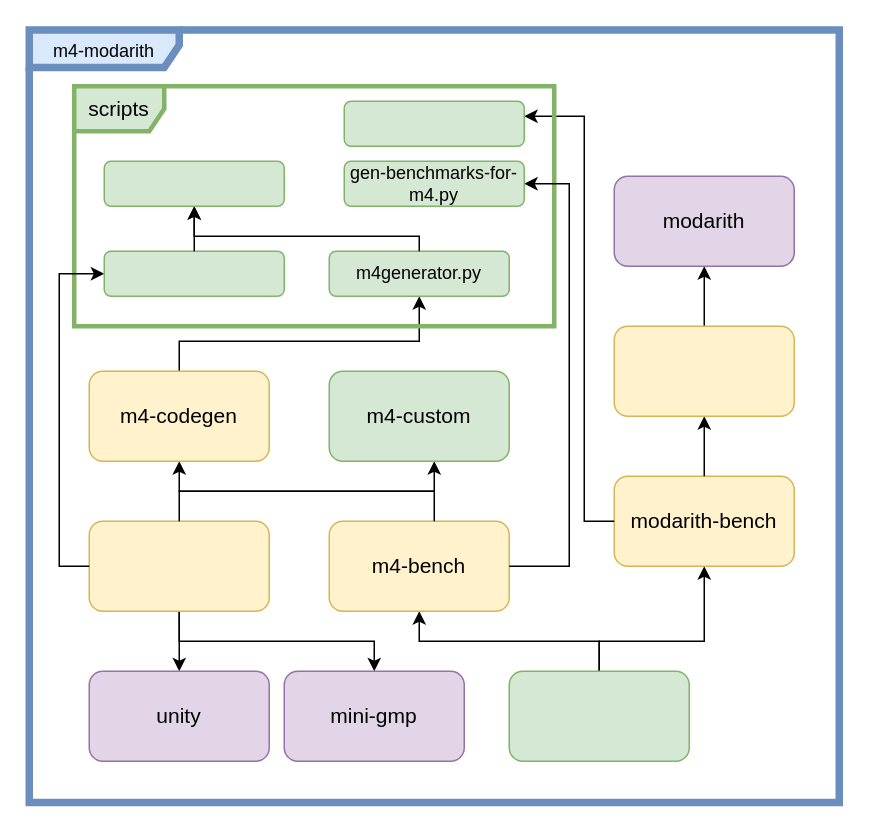
This 869x831 diagram has some shape labels left out. Each missing label, with the centre of its shape:
"gen-benchmarks-for-modarith.py" goes at point 433,123.
"m4-tests" goes at point 178,565.
"m4prime.py" goes at point 193,183.
"m4tests.py" goes at point 193,273.
"modarith-codegen" goes at point 703,370.
"src/main.c" goes at point 598,715.
